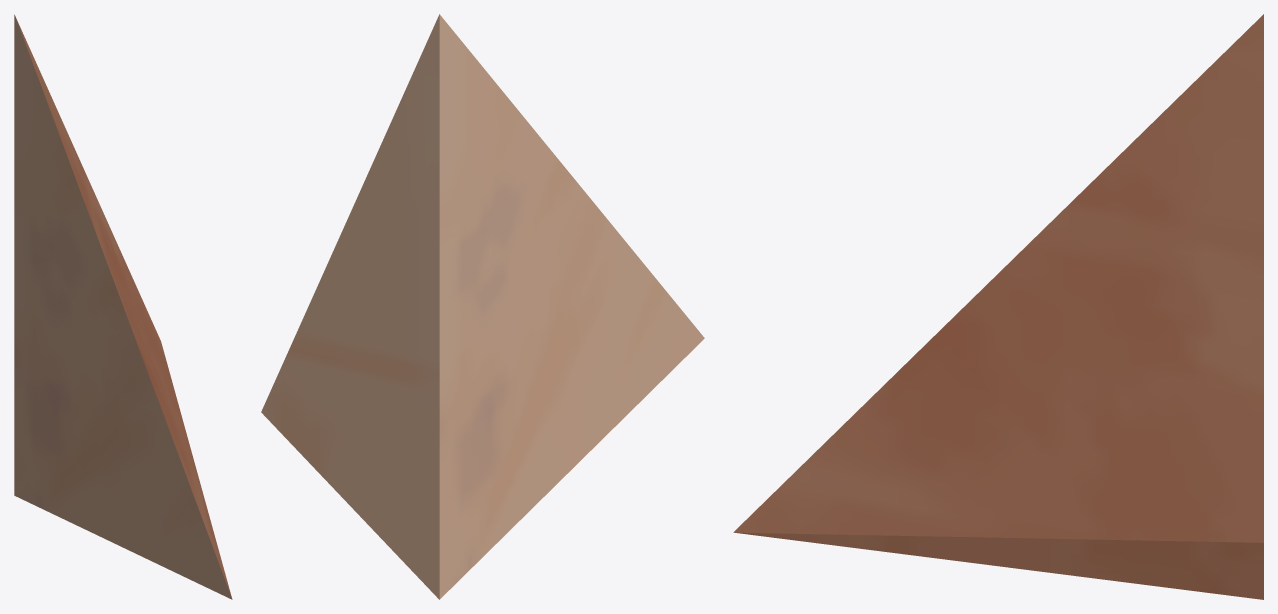
The model's file is wall2_upper_door_s00.fbx.
The picture shows the model from 3 angles, left to right: view 1: azimuth 30°, elevation 25°; view 2: azimuth 150°, elevation 25°; view 3: azimuth 270°, elevation 25°; orthographic projection. The views are drawn at different scales.
Parts seen in each view (by area): view 1: wall2_upper_door_s00; view 2: wall2_upper_door_s00; view 3: wall2_upper_door_s00.
Part boxes in pixels (x1,y1,x2,y2): wall2_upper_door_s00: (14, 14, 232, 599); wall2_upper_door_s00: (261, 14, 704, 599); wall2_upper_door_s00: (733, 14, 1263, 599).
Size of the model in its own units: 0.3865 by 1.21 by 0.9955.
